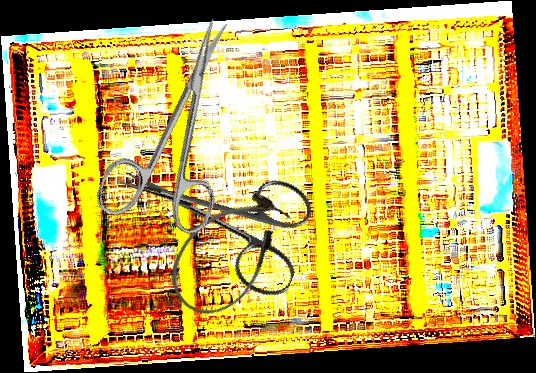Cannula: (152, 175, 305, 331)
Iris Scissors: (92, 2, 276, 247), (101, 126, 324, 303)
